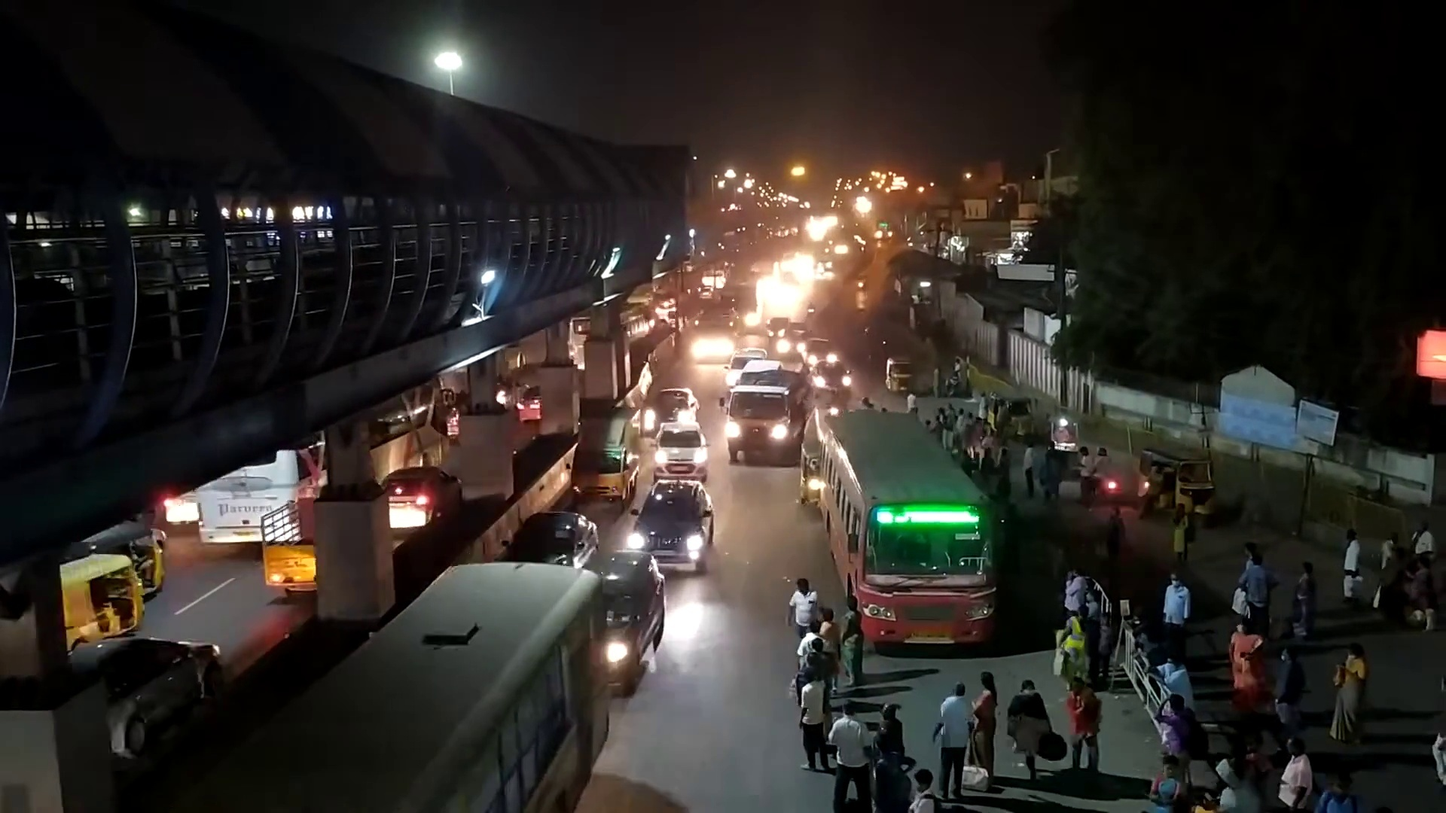driver_helmet: (1093, 446, 1112, 478)
motorcycle: (1093, 445, 1120, 499)
